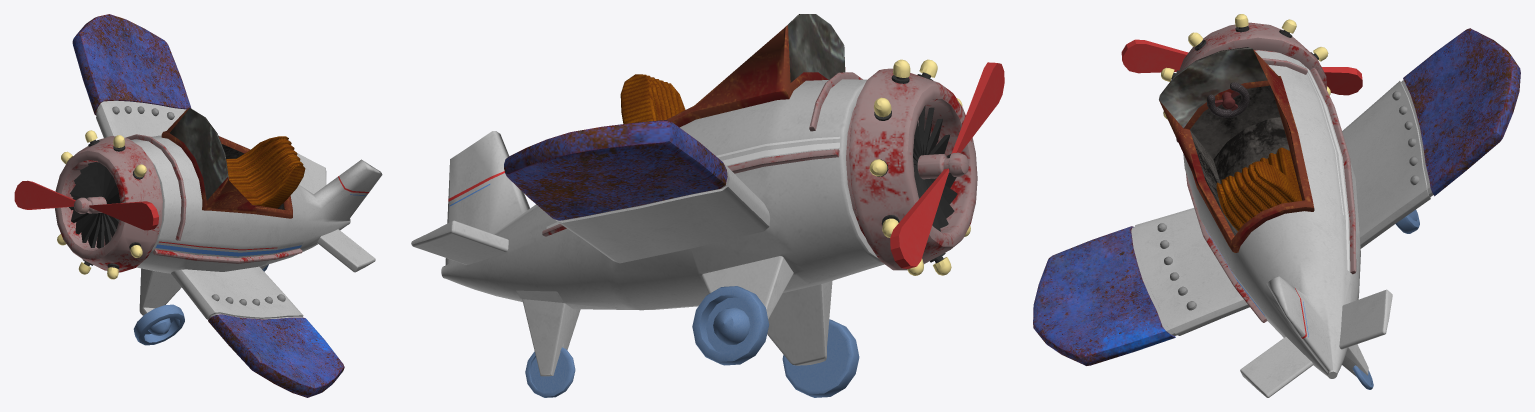
File: airplane.glb
3 views of the same model, side by side, from view 1: azimuth 30°, elevation 25°; view 2: azimuth 150°, elevation 25°; view 3: azimuth 270°, elevation 25° (orthographic). The views are drawn at different scales.
Parts seen in each view (by area): view 1: blinn3SG, blinn12SG, blinn5SG, lambert5SG, blinn9SG, blinn10SG, lambert9SG, lambert8SG, lambert4SG, blinn8SG, blinn14SG, blinn4SG; view 2: blinn3SG, blinn5SG, blinn12SG, lambert4SG, lambert8SG, lambert9SG, blinn10SG, lambert5SG, blinn9SG, blinn8SG, blinn16SG; view 3: blinn3SG, blinn12SG, lambert6SG, blinn5SG, lambert8SG, blinn10SG, lambert5SG, lambert9SG, blinn4SG, blinn8SG, lambert7SG, lambert4SG (+1 smaller).
Boxes of the visible parts, <box> form: blinn3SG: <box>96,100,382,319</box>; blinn12SG: <box>72,14,344,397</box>; blinn5SG: <box>54,134,302,272</box>; lambert5SG: <box>226,136,305,208</box>; blinn9SG: <box>69,162,120,248</box>; blinn10SG: <box>170,108,228,200</box>; lambert9SG: <box>14,180,158,230</box>; lambert8SG: <box>161,107,292,218</box>; lambert4SG: <box>133,264,268,345</box>; blinn8SG: <box>57,130,146,279</box>; blinn14SG: <box>155,244,301,256</box>; blinn4SG: <box>112,106,285,305</box>; blinn3SG: <box>411,79,884,376</box>; blinn5SG: <box>542,68,977,270</box>; blinn12SG: <box>504,120,727,220</box>; lambert4SG: <box>525,286,859,397</box>; lambert8SG: <box>666,25,845,127</box>; lambert9SG: <box>890,62,1004,268</box>; blinn10SG: <box>785,14,845,82</box>; lambert5SG: <box>620,74,685,123</box>; blinn9SG: <box>913,105,957,231</box>; blinn8SG: <box>869,59,970,275</box>; blinn16SG: <box>546,142,839,228</box>; blinn3SG: <box>1131,50,1433,397</box>; blinn12SG: <box>1033,28,1520,365</box>; lambert6SG: <box>1190,85,1289,235</box>; blinn5SG: <box>1176,22,1356,322</box>; lambert8SG: <box>1159,49,1314,252</box>; blinn10SG: <box>1159,47,1267,127</box>; lambert5SG: <box>1216,147,1301,231</box>; lambert9SG: <box>1121,39,1362,95</box>; blinn4SG: <box>1157,91,1419,310</box>; blinn8SG: <box>1161,14,1330,119</box>; lambert7SG: <box>1206,82,1249,117</box>; lambert4SG: <box>1352,209,1419,389</box>.
Bounding box in the file's own units: 0.8742 × 0.6113 × 0.9372.
Materials: 18 (17 with a texture image).
